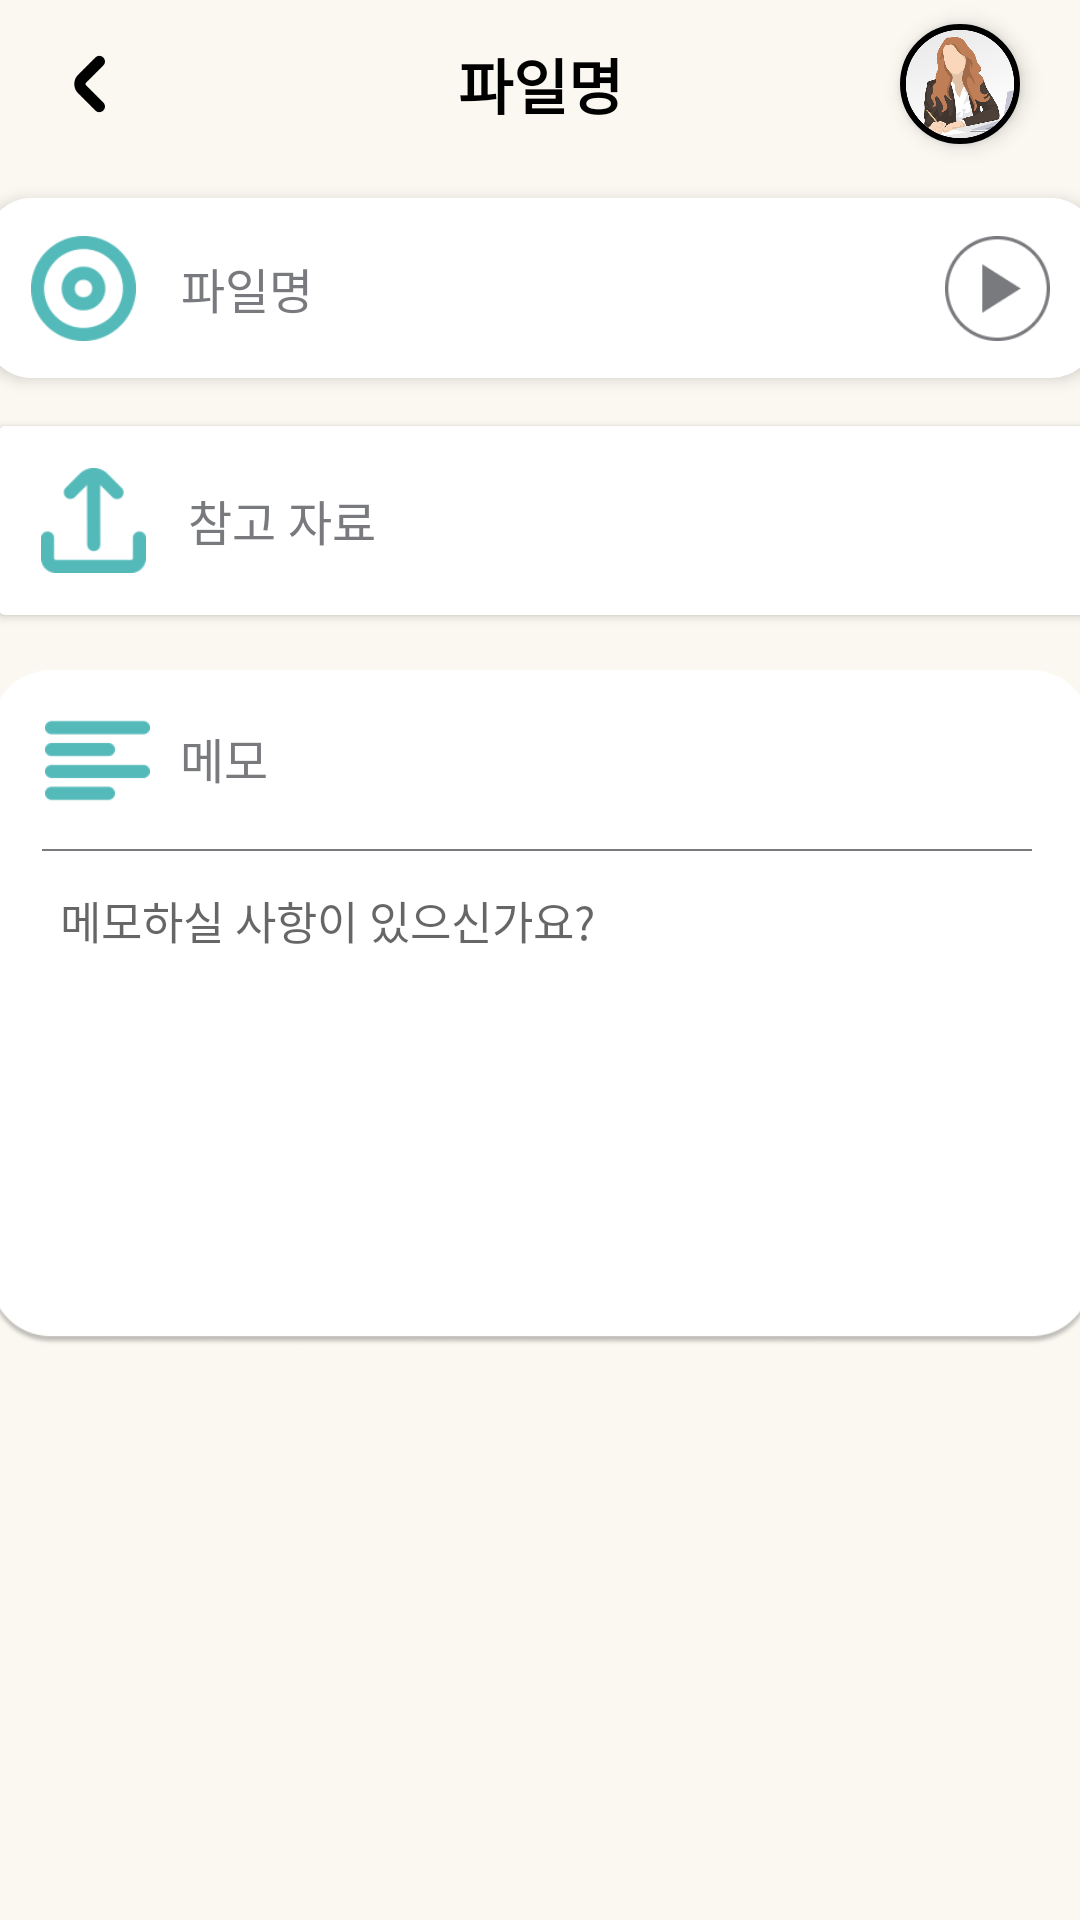

Where to tap for icons on this 1080px×1920px app screen, as point (x, y):
back: point (89, 84)
play: point (997, 288)
profile: point (960, 84)
